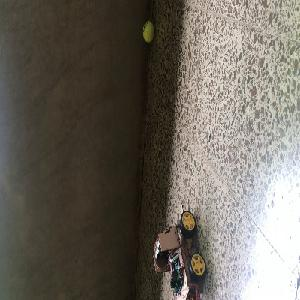Ball: (141, 21, 154, 42)
Robot: (152, 210, 206, 298)
